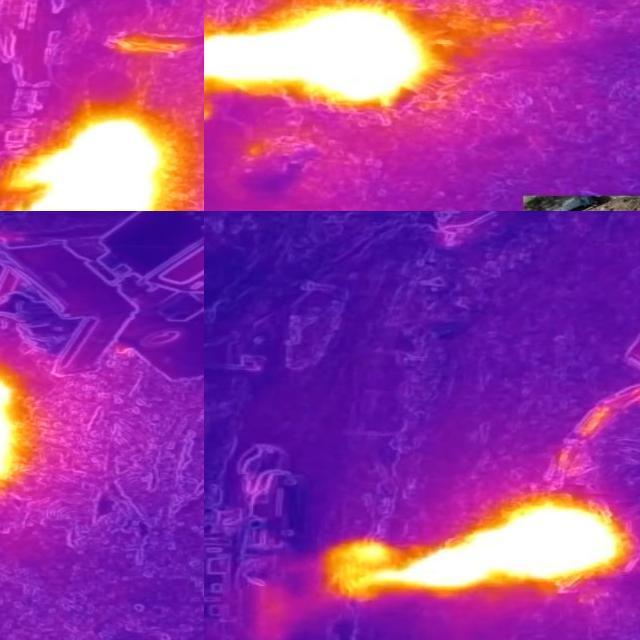fire: (352, 503, 628, 594), (205, 5, 437, 105), (11, 117, 164, 212), (1, 361, 37, 489)
